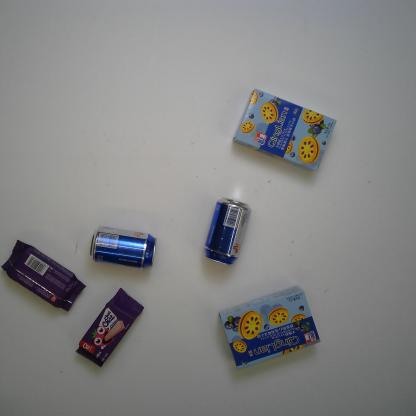Alcohol: (204, 196, 254, 268), (89, 225, 158, 272)
Dessert: (230, 84, 338, 174), (217, 282, 323, 372), (1, 239, 86, 312), (73, 286, 145, 368)
